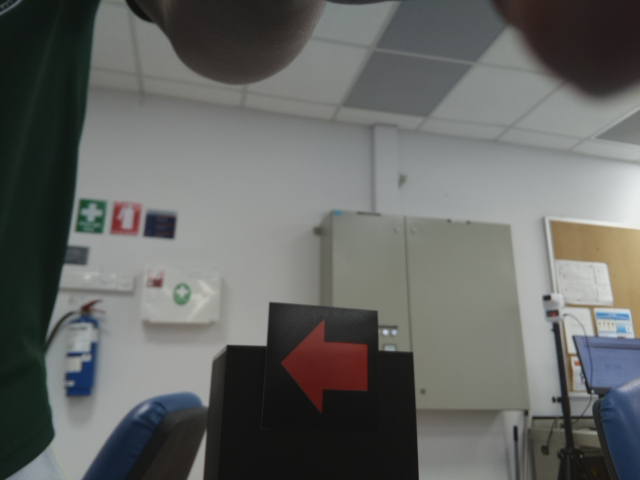left: (275, 314, 372, 420)
